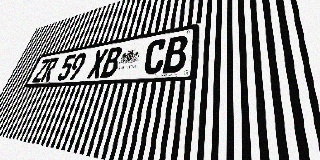5: (56, 54, 77, 81)
9: (67, 52, 88, 80)
B: (162, 34, 189, 73), (100, 46, 123, 78)
C: (142, 38, 167, 75)
R: (40, 57, 59, 82)
X: (86, 48, 109, 79)
Z: (32, 59, 51, 83)
